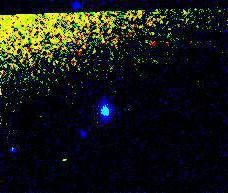star: (47, 146, 77, 176)
